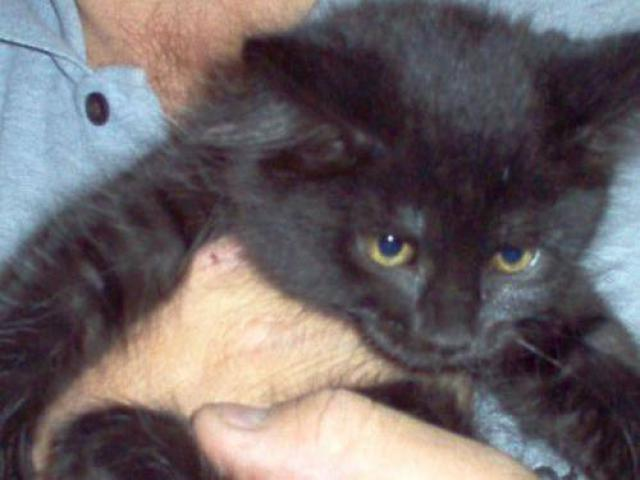cat: (64, 6, 640, 468)
